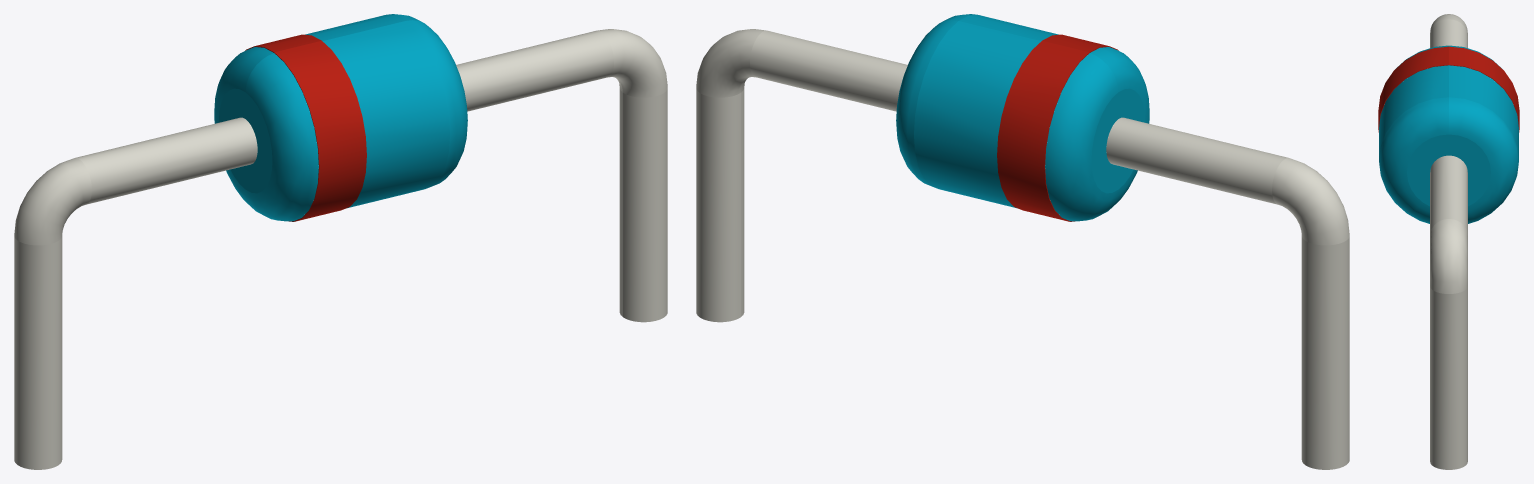
Rendered from kc-d_t-1_p10.16mm_horizontal.glb.
3 renders of one model, left to right at view 1: azimuth 30°, elevation 25°; view 2: azimuth 150°, elevation 25°; view 3: azimuth 270°, elevation 25°, orthographic. The views are drawn at different scales.
Visible parts, largest first — view 1: 0.6666666666666666_0.6666666666666666_0.5833333333333334_0.8, 0_0.3333333333333333_0.5_0, 0.4166666666666667_0_0_0; view 2: 0.6666666666666666_0.6666666666666666_0.5833333333333334_0.8, 0_0.3333333333333333_0.5_0, 0.4166666666666667_0_0_0; view 3: 0_0.3333333333333333_0.5_0, 0.6666666666666666_0.6666666666666666_0.5833333333333334_0.8, 0.4166666666666667_0_0_0.
Part boxes in pixels (x1=…): 0.6666666666666666_0.6666666666666666_0.5833333333333334_0.8: x1=14, y1=29, x2=667, y2=469; 0_0.3333333333333333_0.5_0: x1=214, y1=14, x2=467, y2=221; 0.4166666666666667_0_0_0: x1=245, y1=34, x2=366, y2=221; 0.6666666666666666_0.6666666666666666_0.5833333333333334_0.8: x1=696, y1=29, x2=1349, y2=469; 0_0.3333333333333333_0.5_0: x1=896, y1=14, x2=1149, y2=221; 0.4166666666666667_0_0_0: x1=997, y1=34, x2=1118, y2=221; 0_0.3333333333333333_0.5_0: x1=1379, y1=45, x2=1518, y2=223; 0.6666666666666666_0.6666666666666666_0.5833333333333334_0.8: x1=1430, y1=14, x2=1467, y2=469; 0.4166666666666667_0_0_0: x1=1378, y1=46, x2=1519, y2=132.
Bounding box in the file's own units: 1.09 × 0.561 × 0.262.
